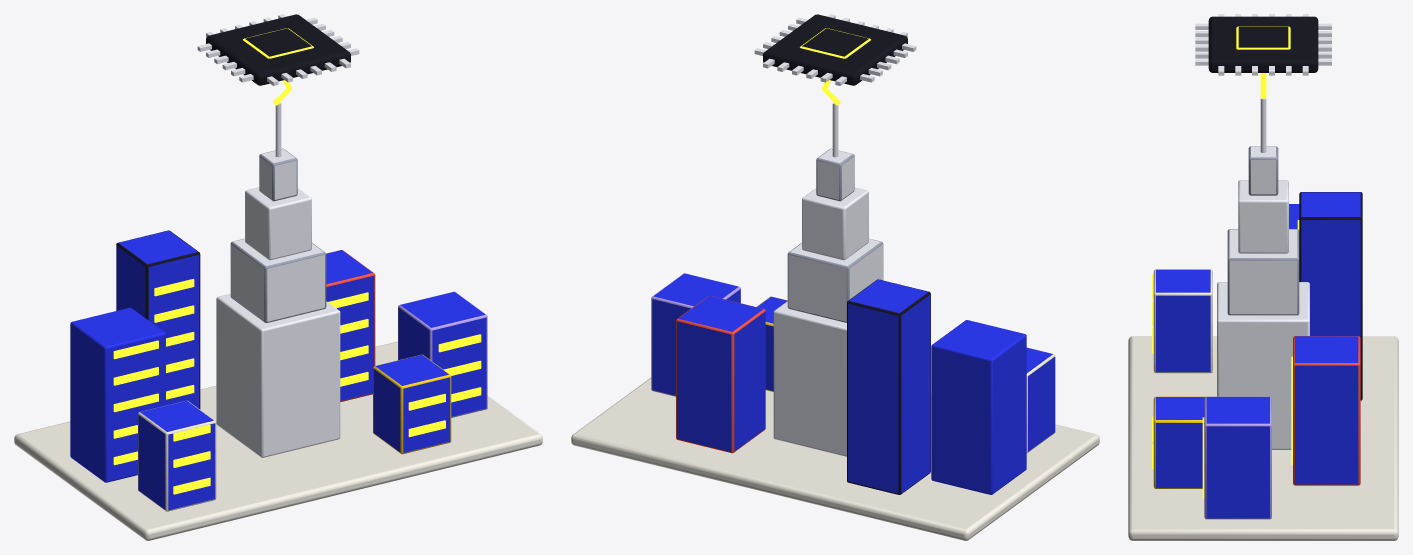
Rendered from nyc.glb.
The picture shows the model from 3 angles, left to right: view 1: azimuth 30°, elevation 25°; view 2: azimuth 150°, elevation 25°; view 3: azimuth 270°, elevation 25°; orthographic projection.
Visible parts, largest first — view 1: blocks, empire, ground, bob_chip, windows; view 2: blocks, ground, empire, bob_chip; view 3: blocks, ground, empire, bob_chip, windows.
Part boxes in pixels (x1,y1,x2,y2): blocks: (70,230,487,511); empire: (216,102,340,457); ground: (14,341,542,540); bob_chip: (197,14,359,85); windows: (113,279,481,494); blocks: (651,273,1055,494); ground: (571,377,1099,540); empire: (773,102,883,456); bob_chip: (754,14,916,85); blocks: (1153,192,1362,519); ground: (1128,336,1398,540); empire: (1217,98,1309,449); bob_chip: (1195,14,1331,75); windows: (1152,220,1299,498).
Bounding box in the file's own units: 11 × 10.65 × 6.4.
